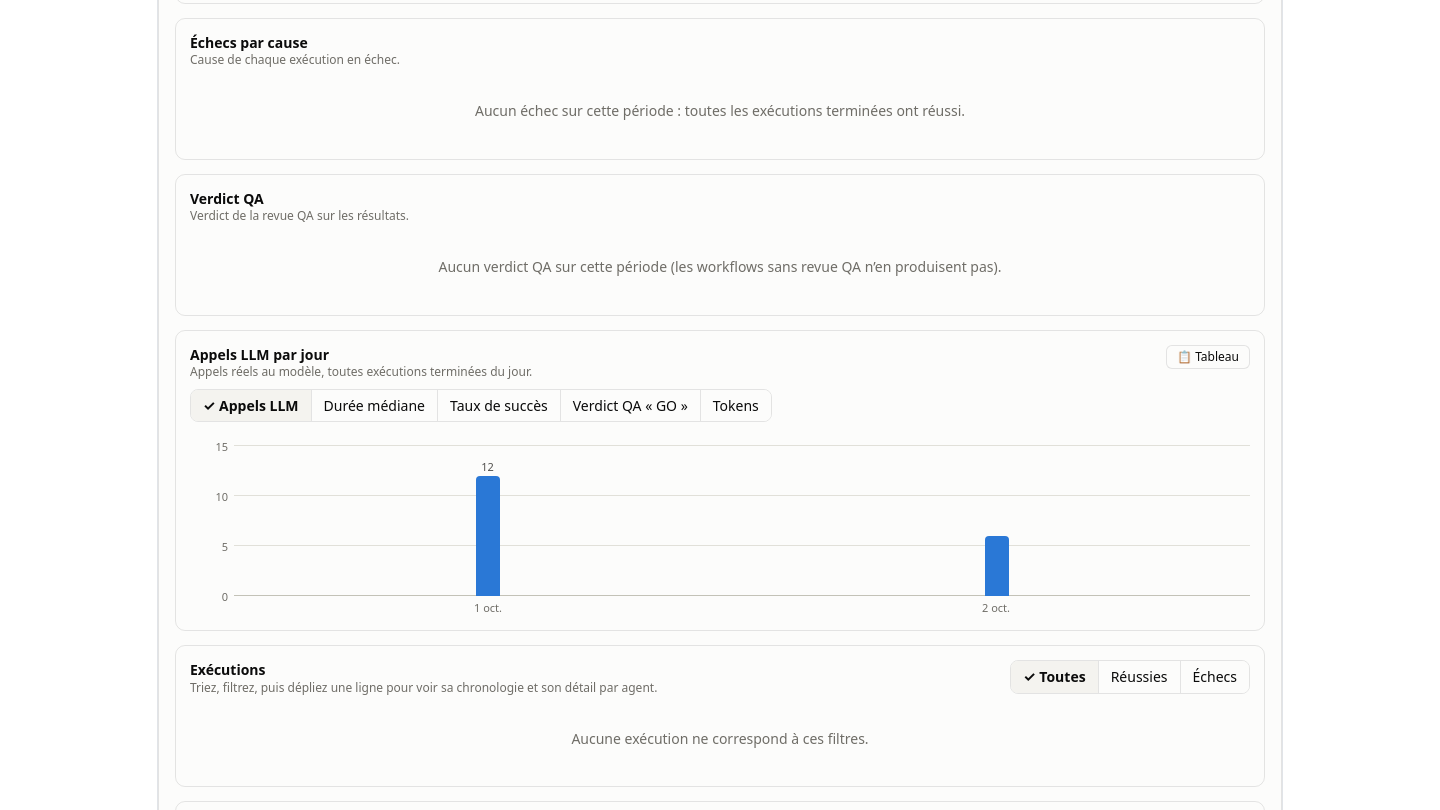
Test case: MetricsPanel — coût, raisonnement et qualité › suit la part de verdicts GO dans le temps
The image size is (1440, 810).
(page scrolled)
expect the heading "Appels LLM par jour" is shown: met, box [190,344,329,364]
Click the button "Verdict QA « GO »" at point(630, 406), box [560,390,700,422]
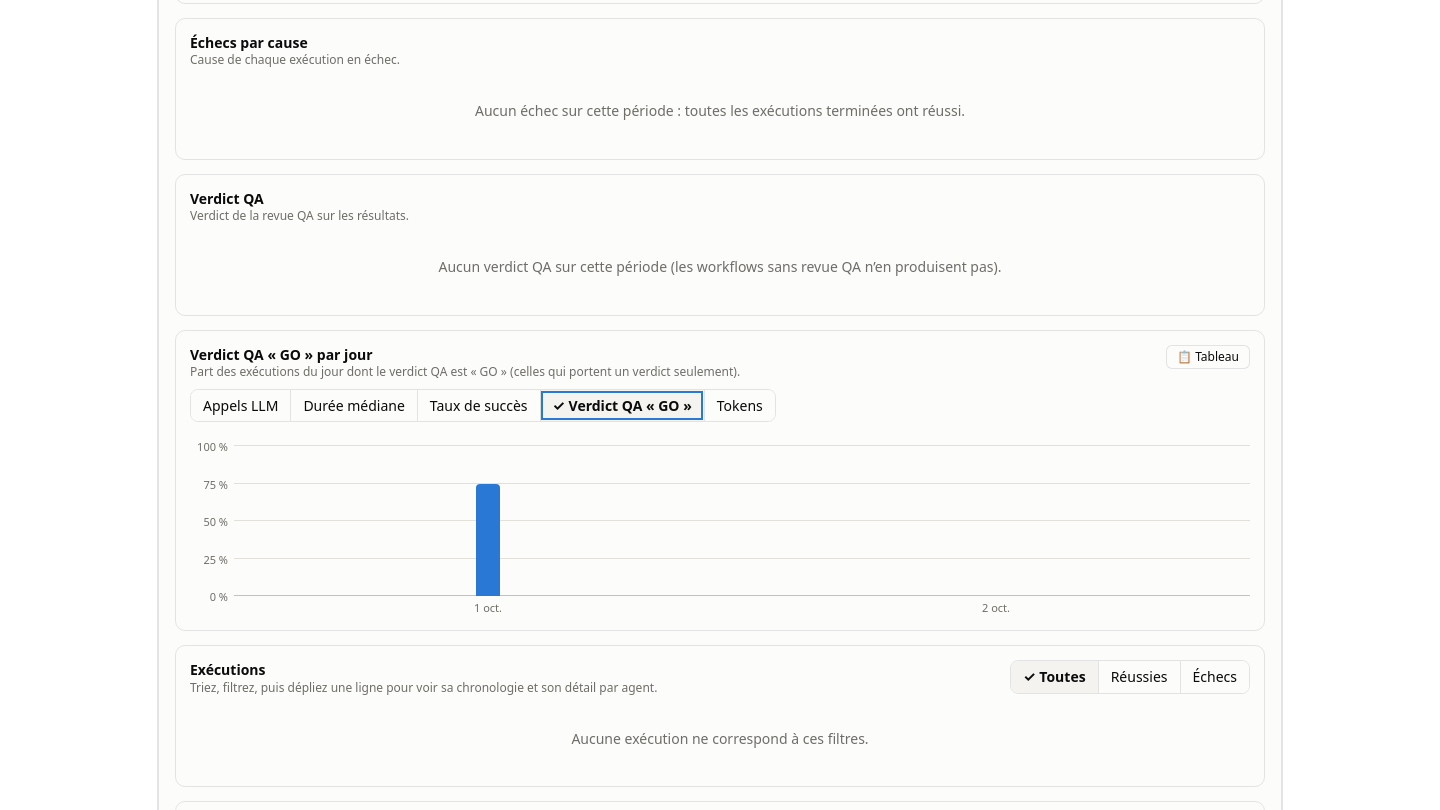
expect the element named "1 oct. : Verdict QA « GO » 75 %" is shown: met, box [476,484,500,596]
expect the element named "2 oct. : Verdict QA « GO » aucune donnée" is shown: met, box [743,446,1250,596]
